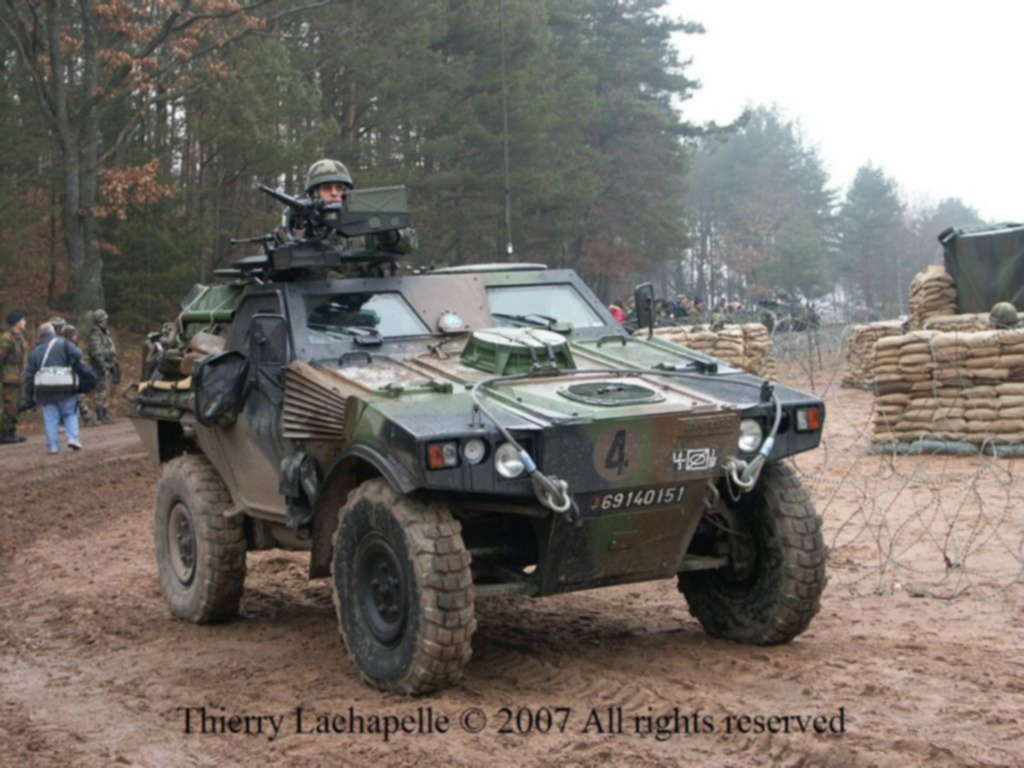license_plate: (599, 485, 687, 511)
